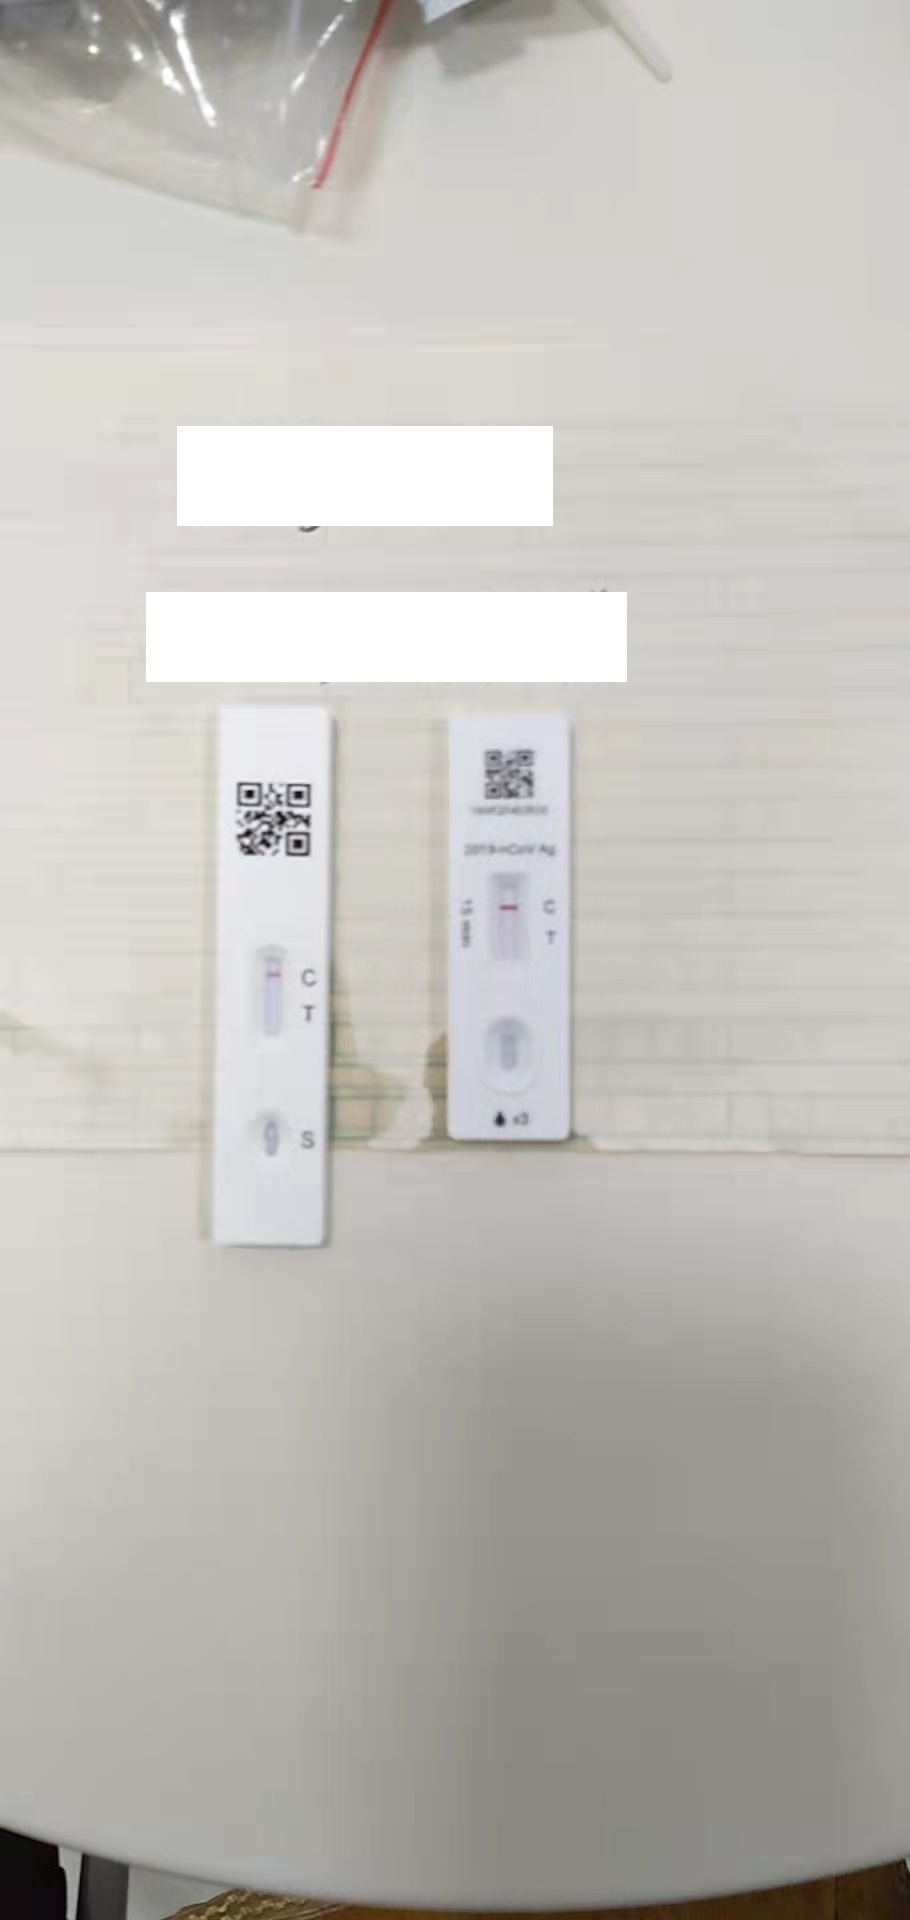negative: (489, 869, 525, 967), (257, 945, 288, 1038)
